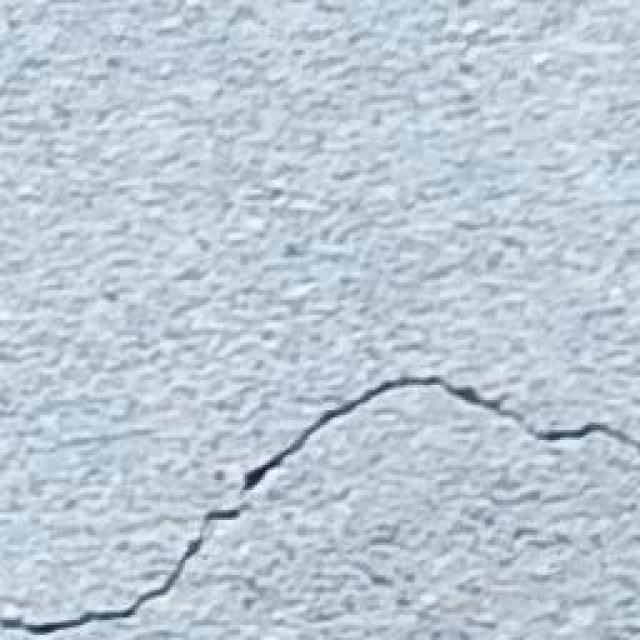concrete-crack: (0, 375, 640, 632)
